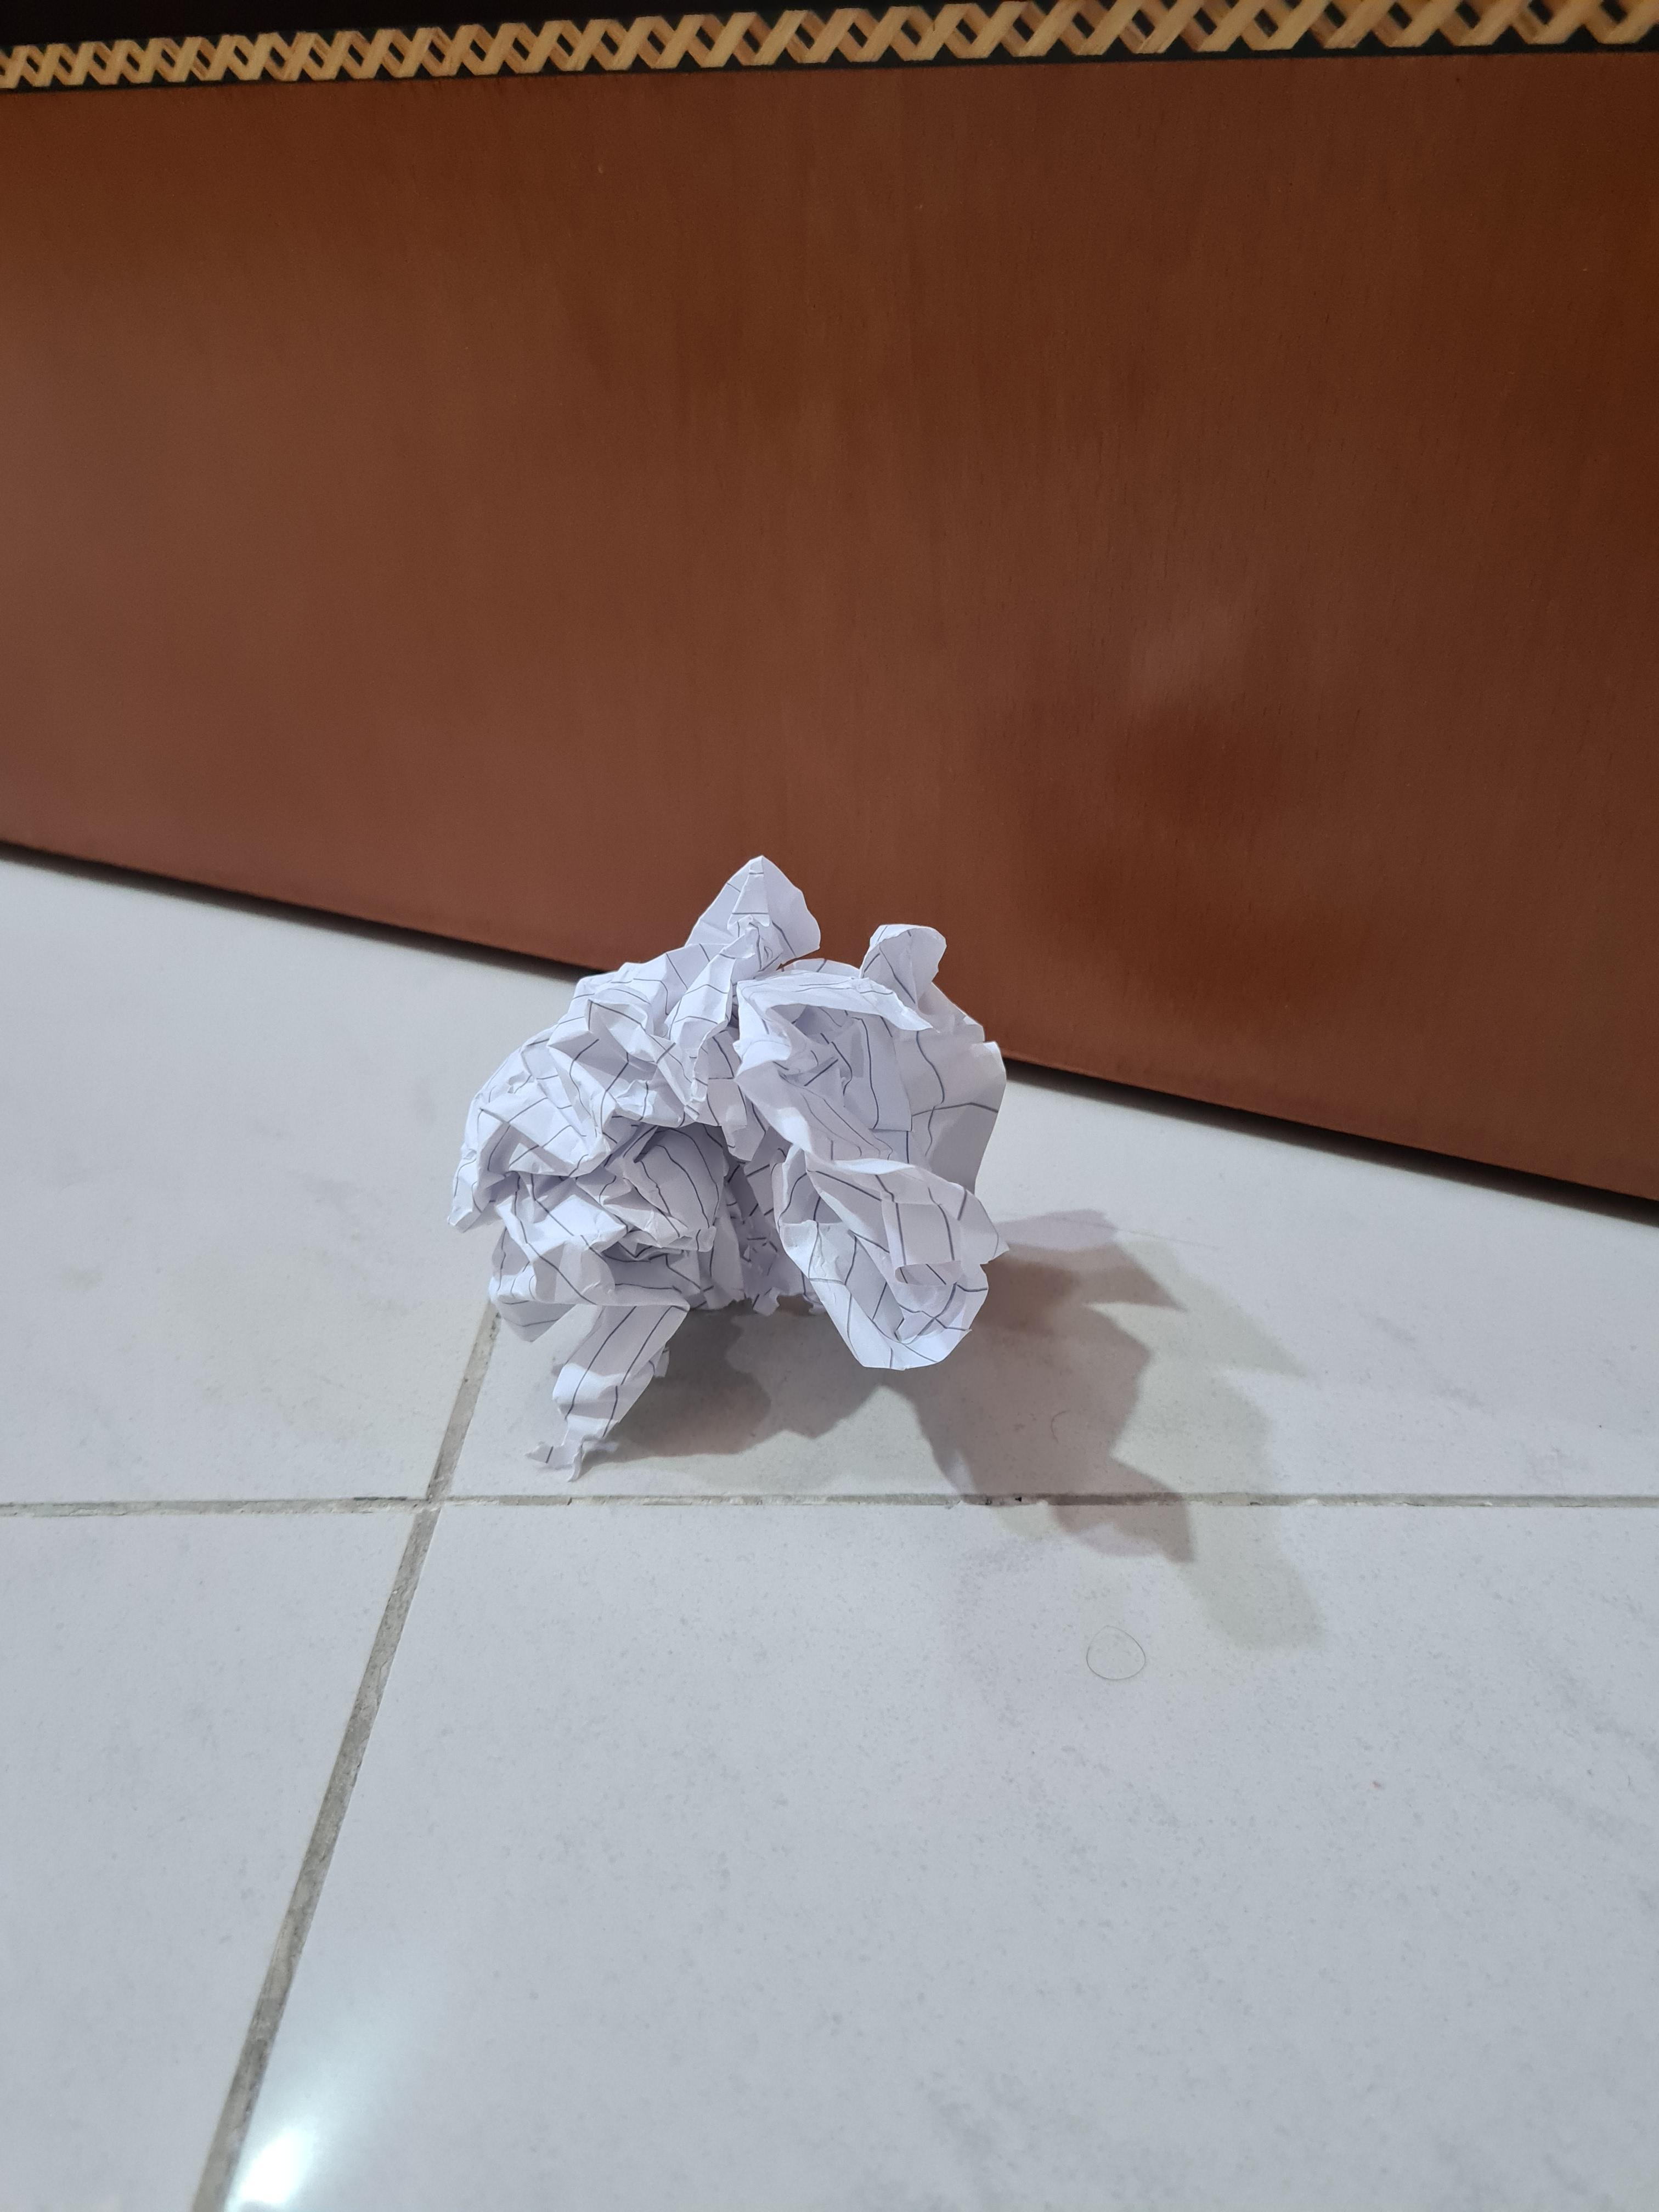Paper: (451, 846, 1028, 1472)
